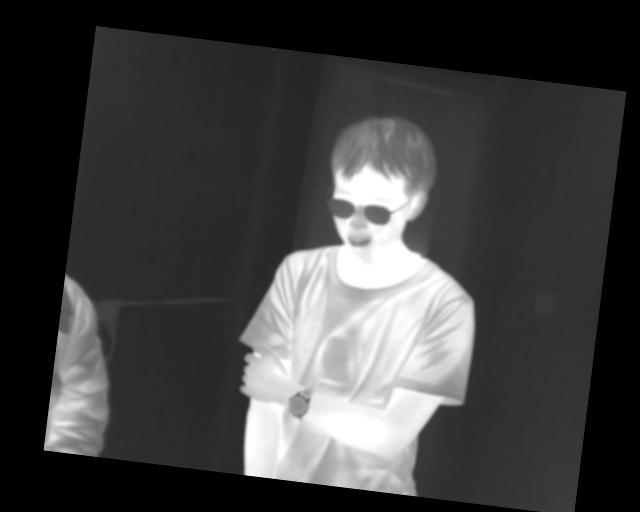face: (317, 107, 443, 263)
